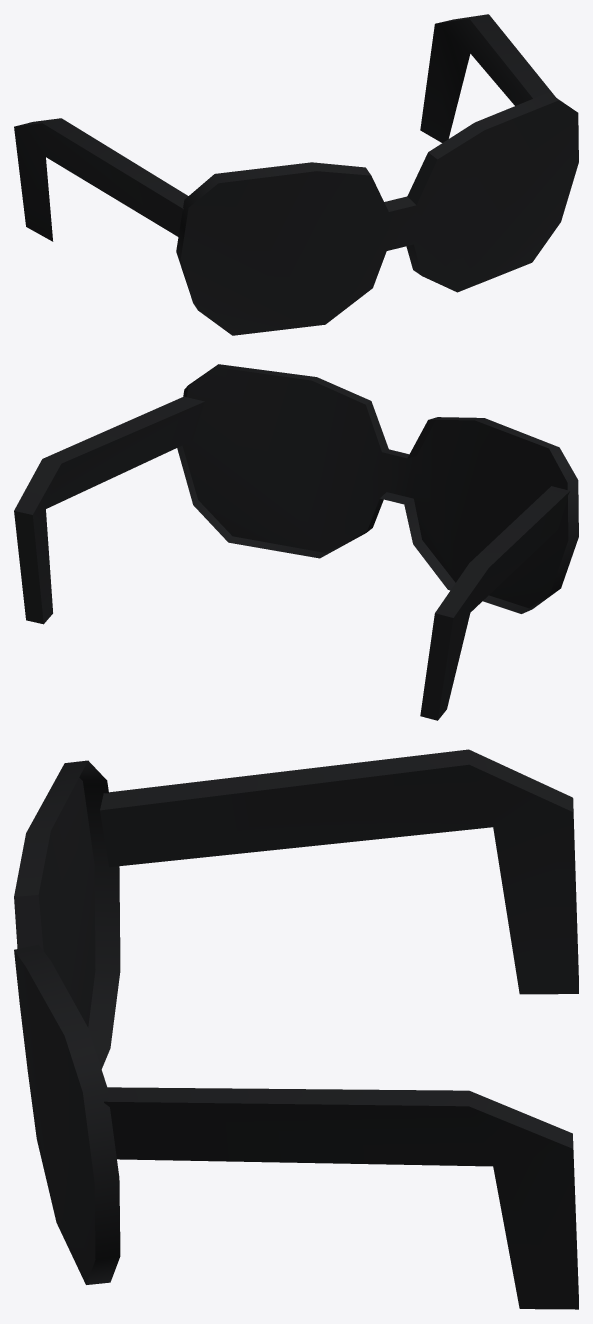
The model's file is Female_Glasses_03.fbx.
The picture shows the model from 3 angles, top to bottom: view 1: azimuth 30°, elevation 25°; view 2: azimuth 150°, elevation 25°; view 3: azimuth 270°, elevation 25°; orthographic projection. The views are drawn at different scales.
Visible parts, largest first — view 1: Female_Glasses_03; view 2: Female_Glasses_03; view 3: Female_Glasses_03.
Boxes of the visible parts, x1,y1,x2,y2 form: Female_Glasses_03: [14, 14, 578, 335]; Female_Glasses_03: [14, 364, 578, 720]; Female_Glasses_03: [14, 749, 578, 1309].
Bounding box in the file's own units: 55.77 × 20.1 × 37.32.
